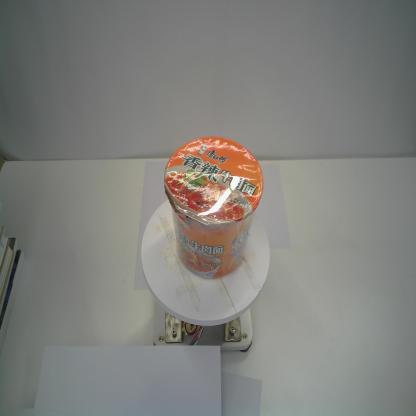Instant Noodles: (164, 135, 264, 280)
